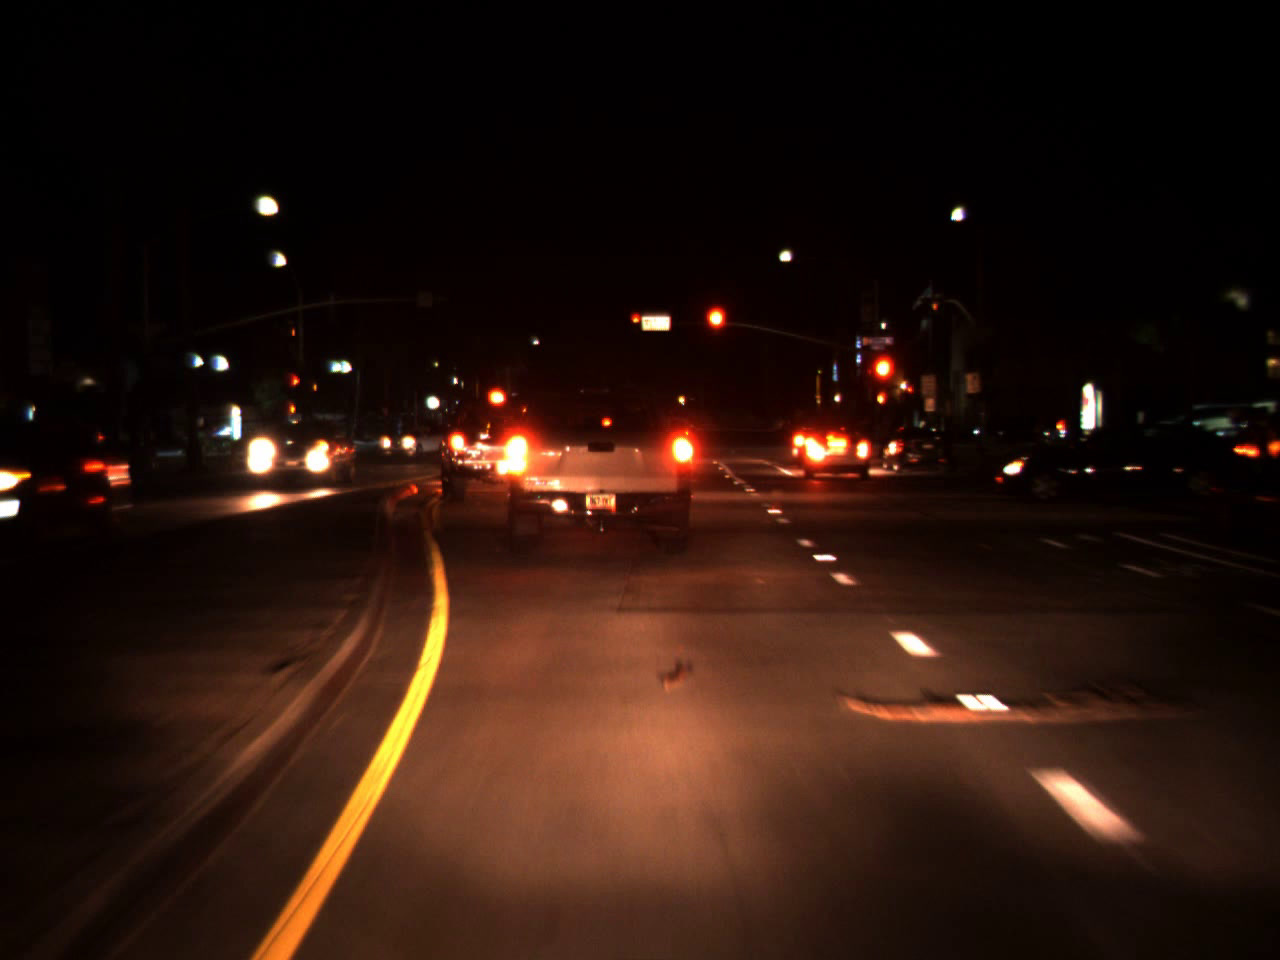stop: (869, 351, 899, 413), (702, 303, 729, 357), (290, 373, 302, 397), (630, 312, 642, 328)
